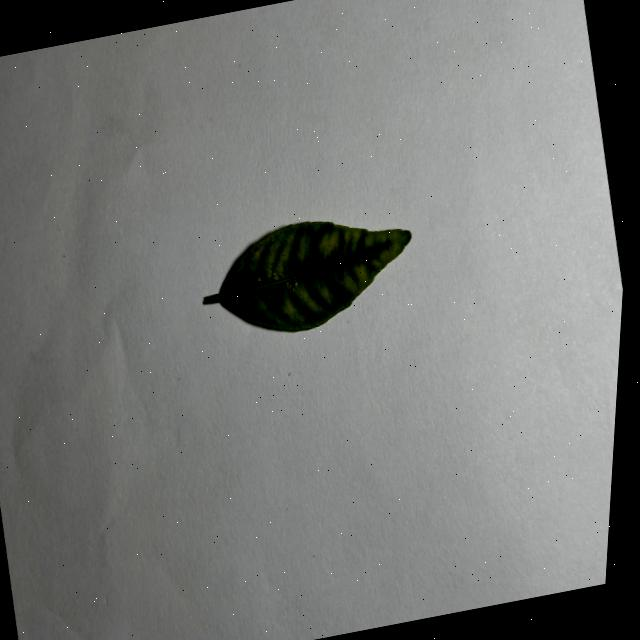greening: (204, 221, 411, 330)
